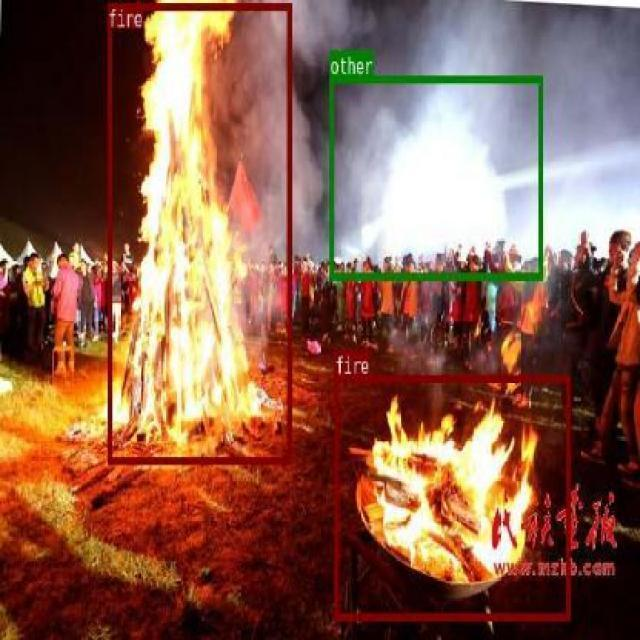Fire: (122, 2, 275, 459), (350, 368, 555, 601)
Smoke: (278, 0, 626, 277)
